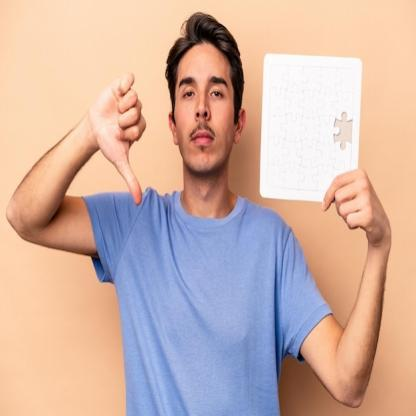thumb_down: (90, 66, 148, 206)
